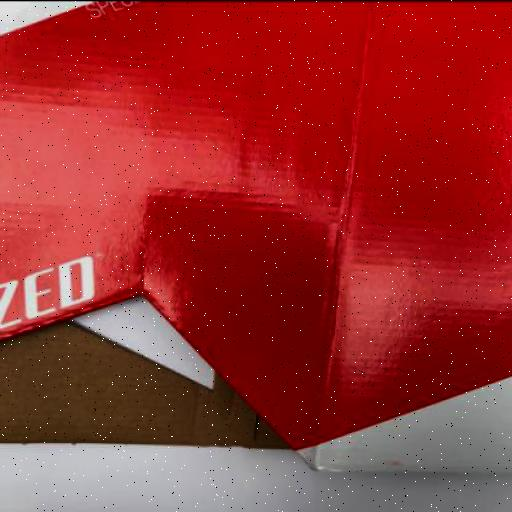cardboard: (1, 0, 512, 470)
